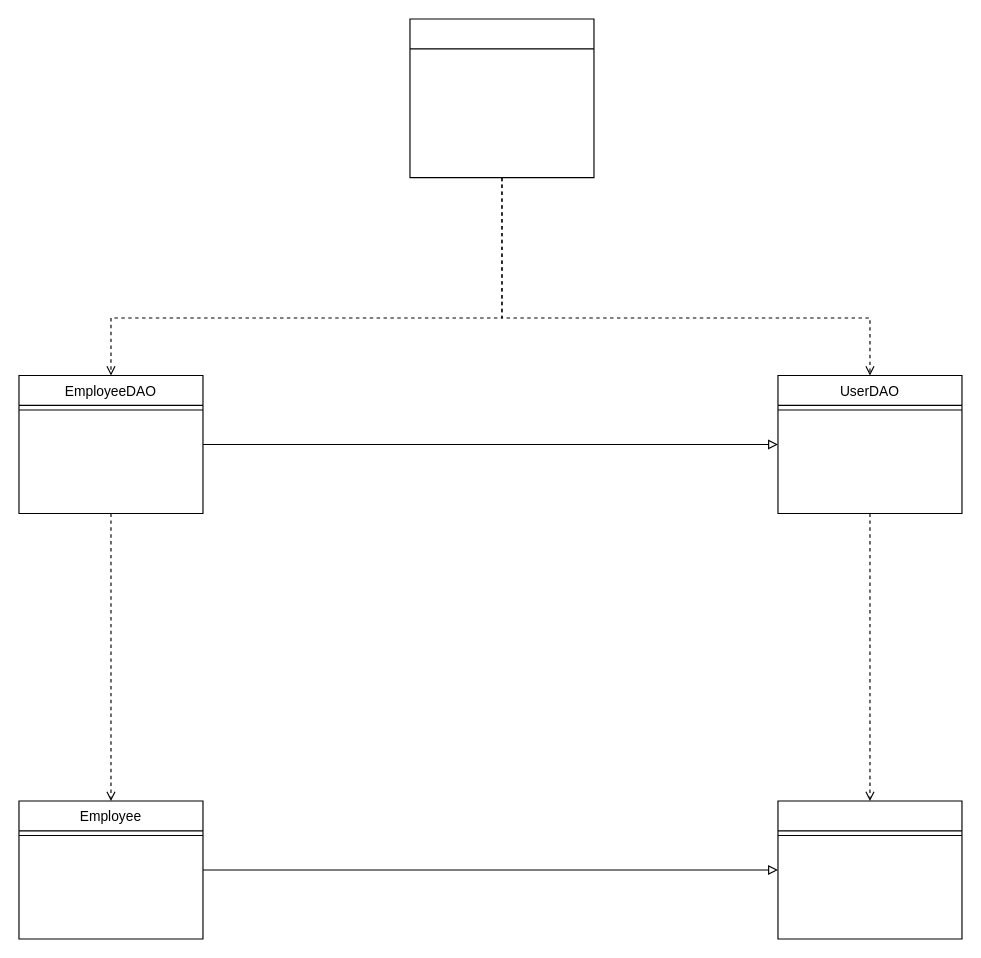
Some shapes in this 981 by 958 pixel diagram are drawn without their labels. The shapes that lost their labels are listed below. From the top down, each one's box as (x1, y1, x2, y2) in pixels, then its label:
(409, 18, 594, 178): LogController
(777, 800, 962, 939): User
